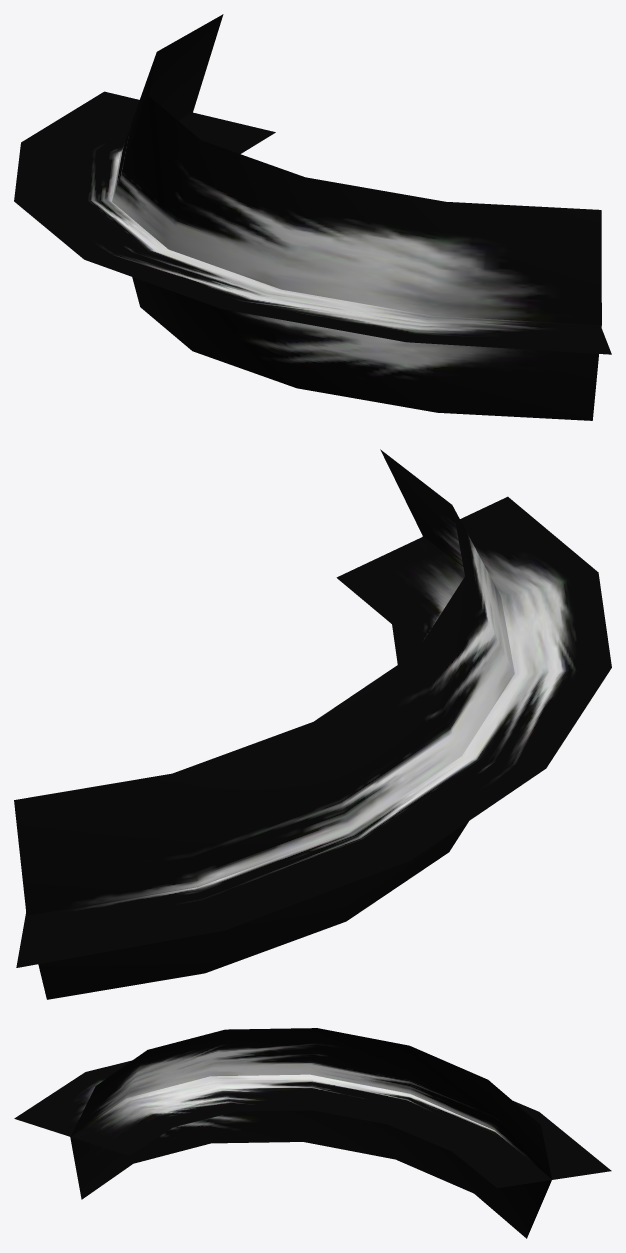
File: Effect_3001skill_S.fbx
The picture shows the model from 3 angles, top to bottom: view 1: azimuth 30°, elevation 25°; view 2: azimuth 150°, elevation 25°; view 3: azimuth 270°, elevation 25°; orthographic projection. The views are drawn at different scales.
Visible parts, largest first — view 1: Effect_3001tattack01; view 2: Effect_3001tattack01; view 3: Effect_3001tattack01.
Boxes of the visible parts, x1,y1,x2,y2 form: Effect_3001tattack01: [14, 14, 611, 420]; Effect_3001tattack01: [14, 449, 611, 999]; Effect_3001tattack01: [14, 1028, 611, 1238].
Bounding box in the file's own units: 5.27 × 3.86 × 12.7.
Materials: 3 (3 with a texture image).
